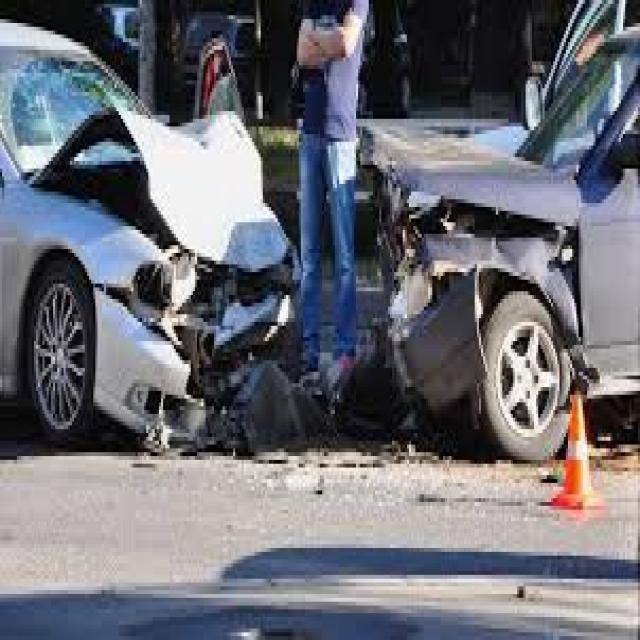Accident: (0, 19, 640, 464)
